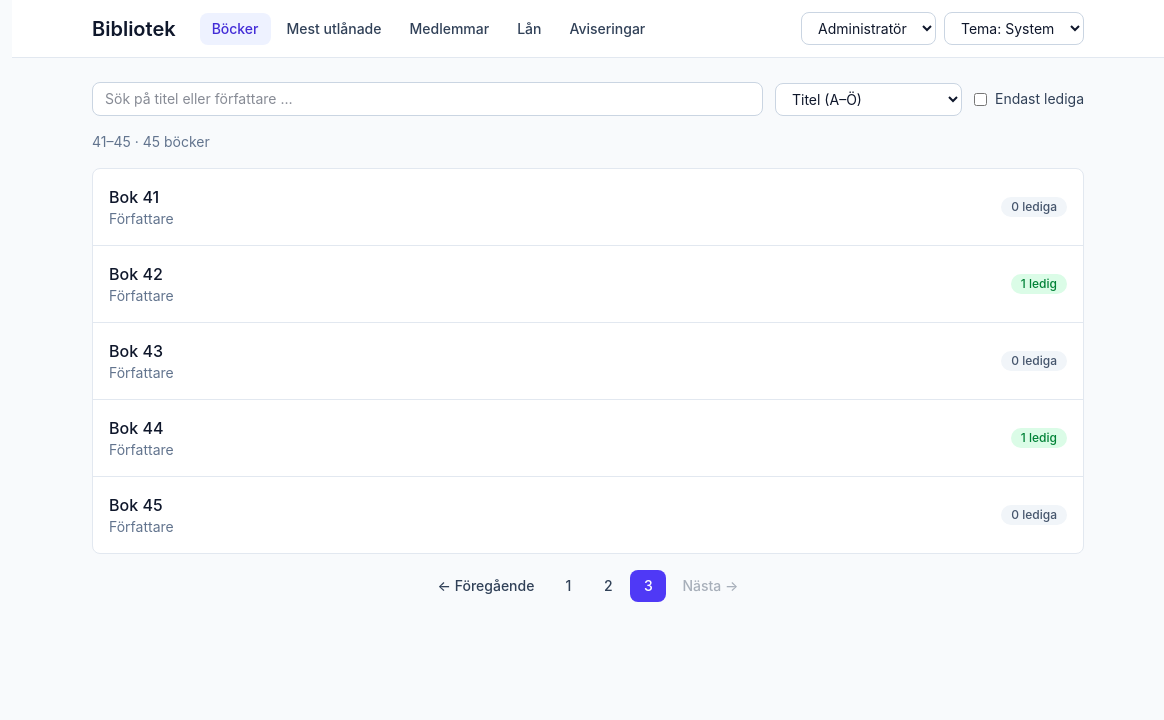
Test: BooksPage › sidindelning › går tillbaka till första sidan när filter eller sortering ändras
Expected: the text "41–45 · 45 böcker" is shown, x1=92 y1=133 x2=210 y2=150
Click the checkbox labelled "Endast lediga" at (980, 99), box x1=974 y1=92 x2=987 y2=106
(page scrolled)
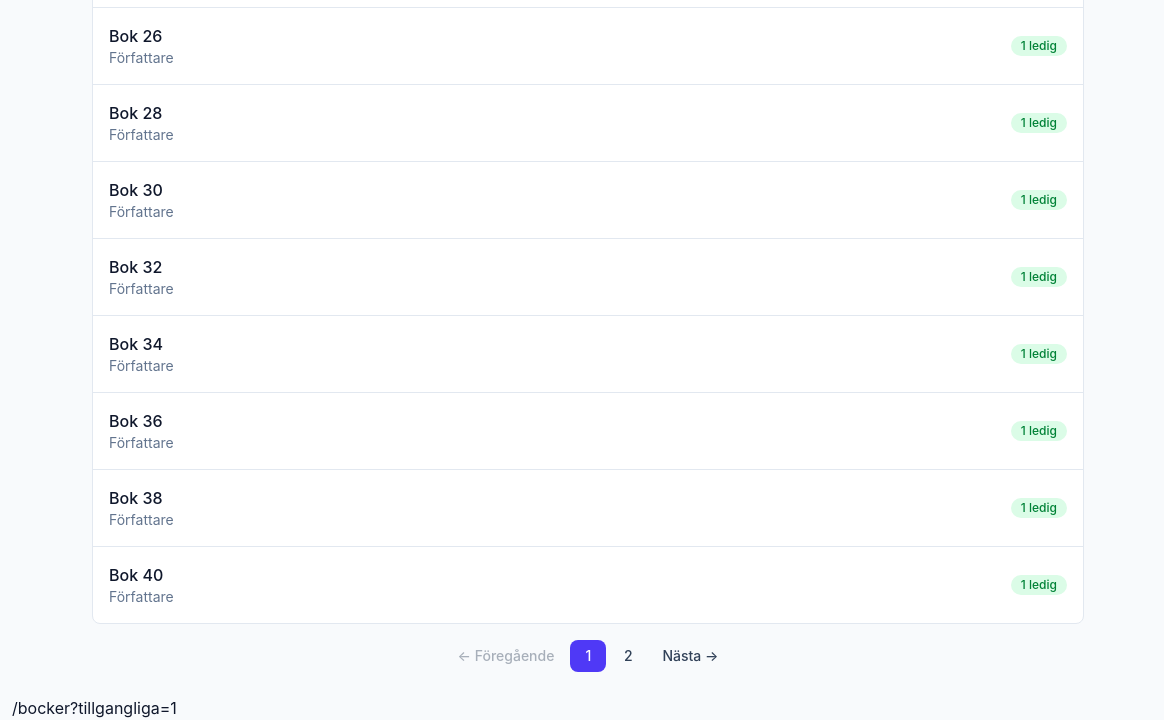
Expected: the text with test id "location" reads "/bocker?tillgangliga=1", x1=12 y1=698 x2=177 y2=718
